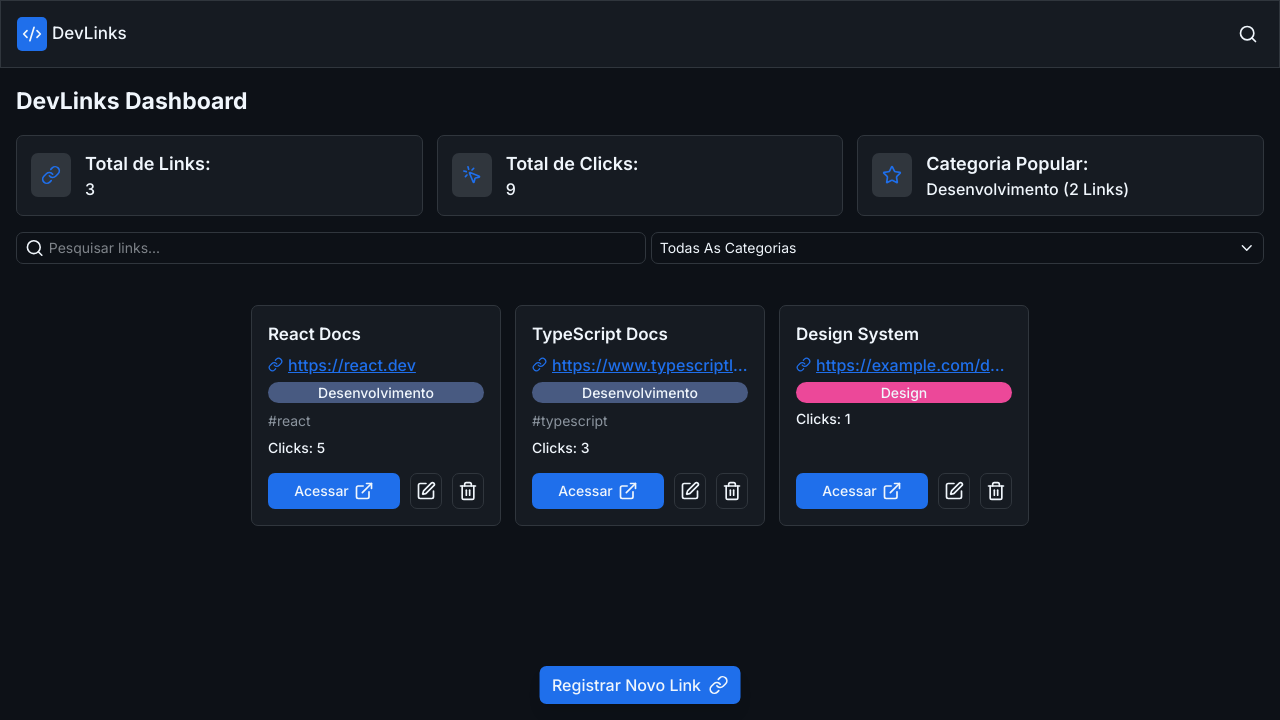
Test: App integration › fetches links, displays metrics, and filters links by title and category
This screenshot has width=1280, height=720.
expect the text "React Docs" is shown: met, box [268,324,361,344]
expect the text "TypeScript Docs" is shown: met, box [532,324,668,344]
Type "react" into the field with placeholder "Pesquisar links...".
click(343, 248); type("react")  # box [49,237,638,258]
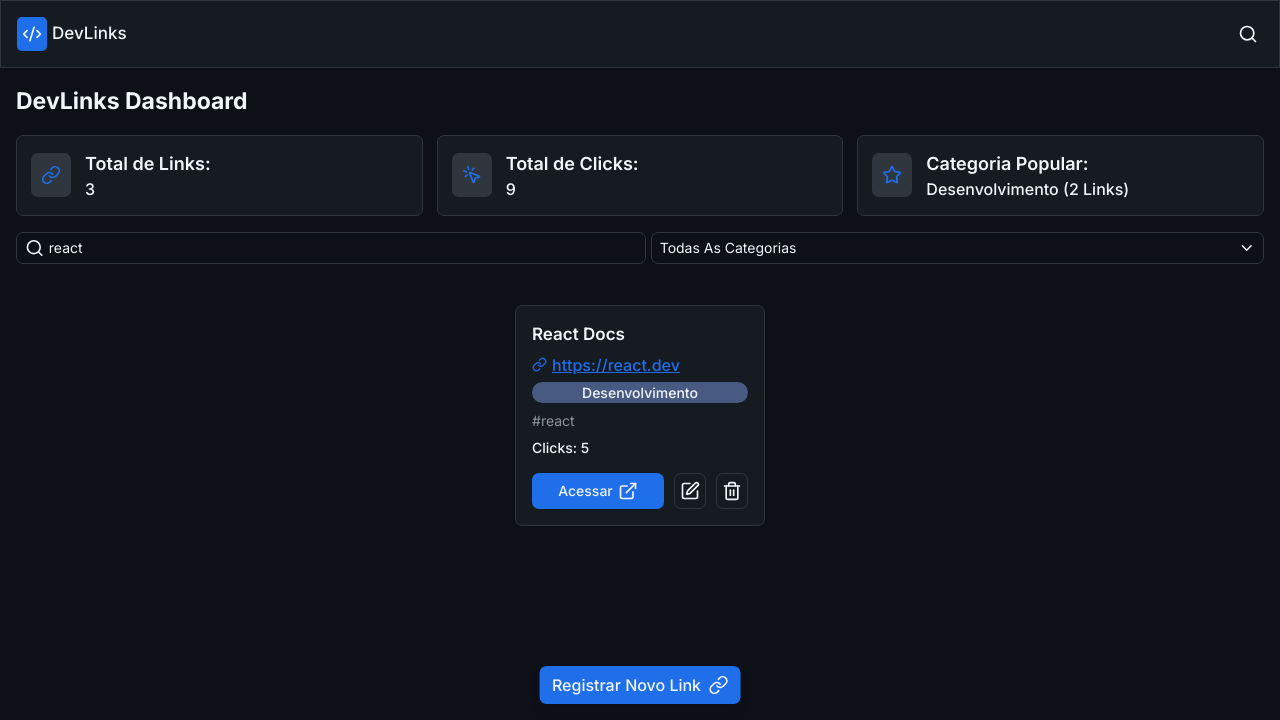
expect the text "React Docs" is shown: met, box [532,324,625,344]
expect the text "TypeScript Docs" is gone: met
expect the text "Design System" is gone: met
Clear the field with placeholder "Pesquisar links..." at point(343, 248), box [49,237,638,258]
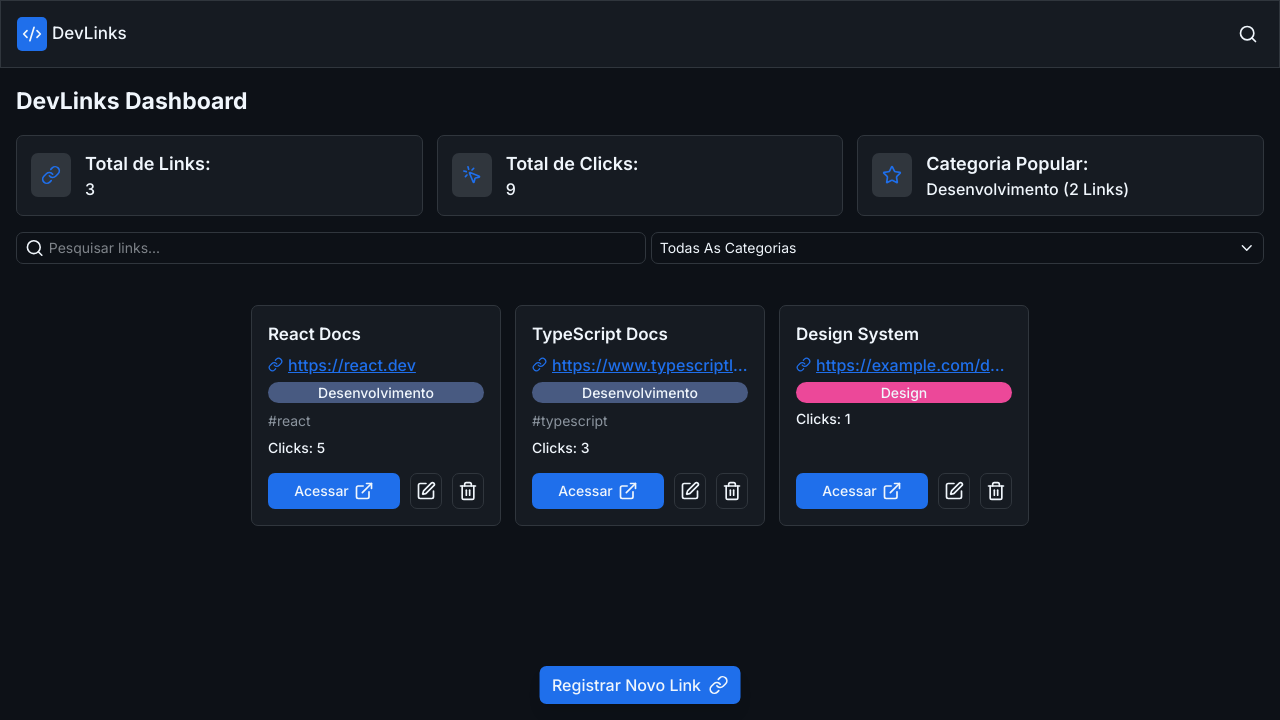
Click the button "Todas as Categorias".
click(728, 248)  # box [651,232,1264,264]
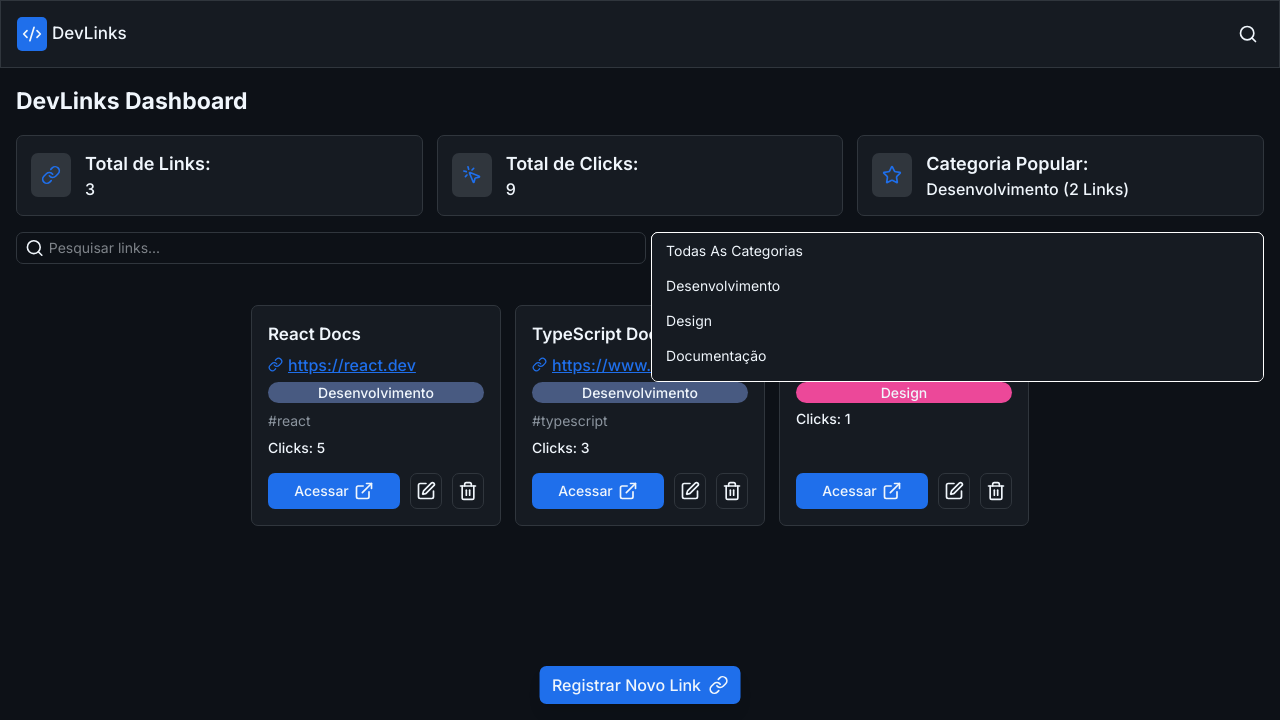
Click the 1st button "design".
click(689, 320)  # box [652,302,1263,338]
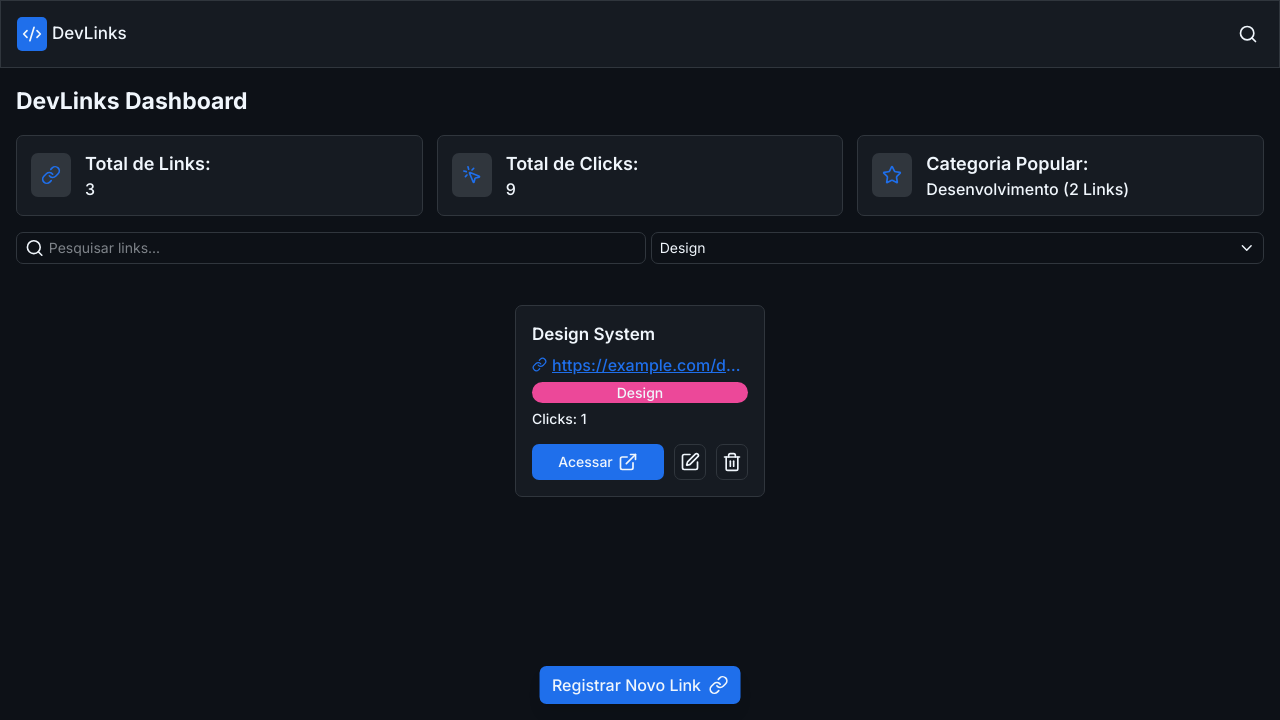
expect the text "Design System" is shown: met, box [532,324,655,344]
expect the text "React Docs" is gone: met
expect the text "TypeScript Docs" is gone: met
